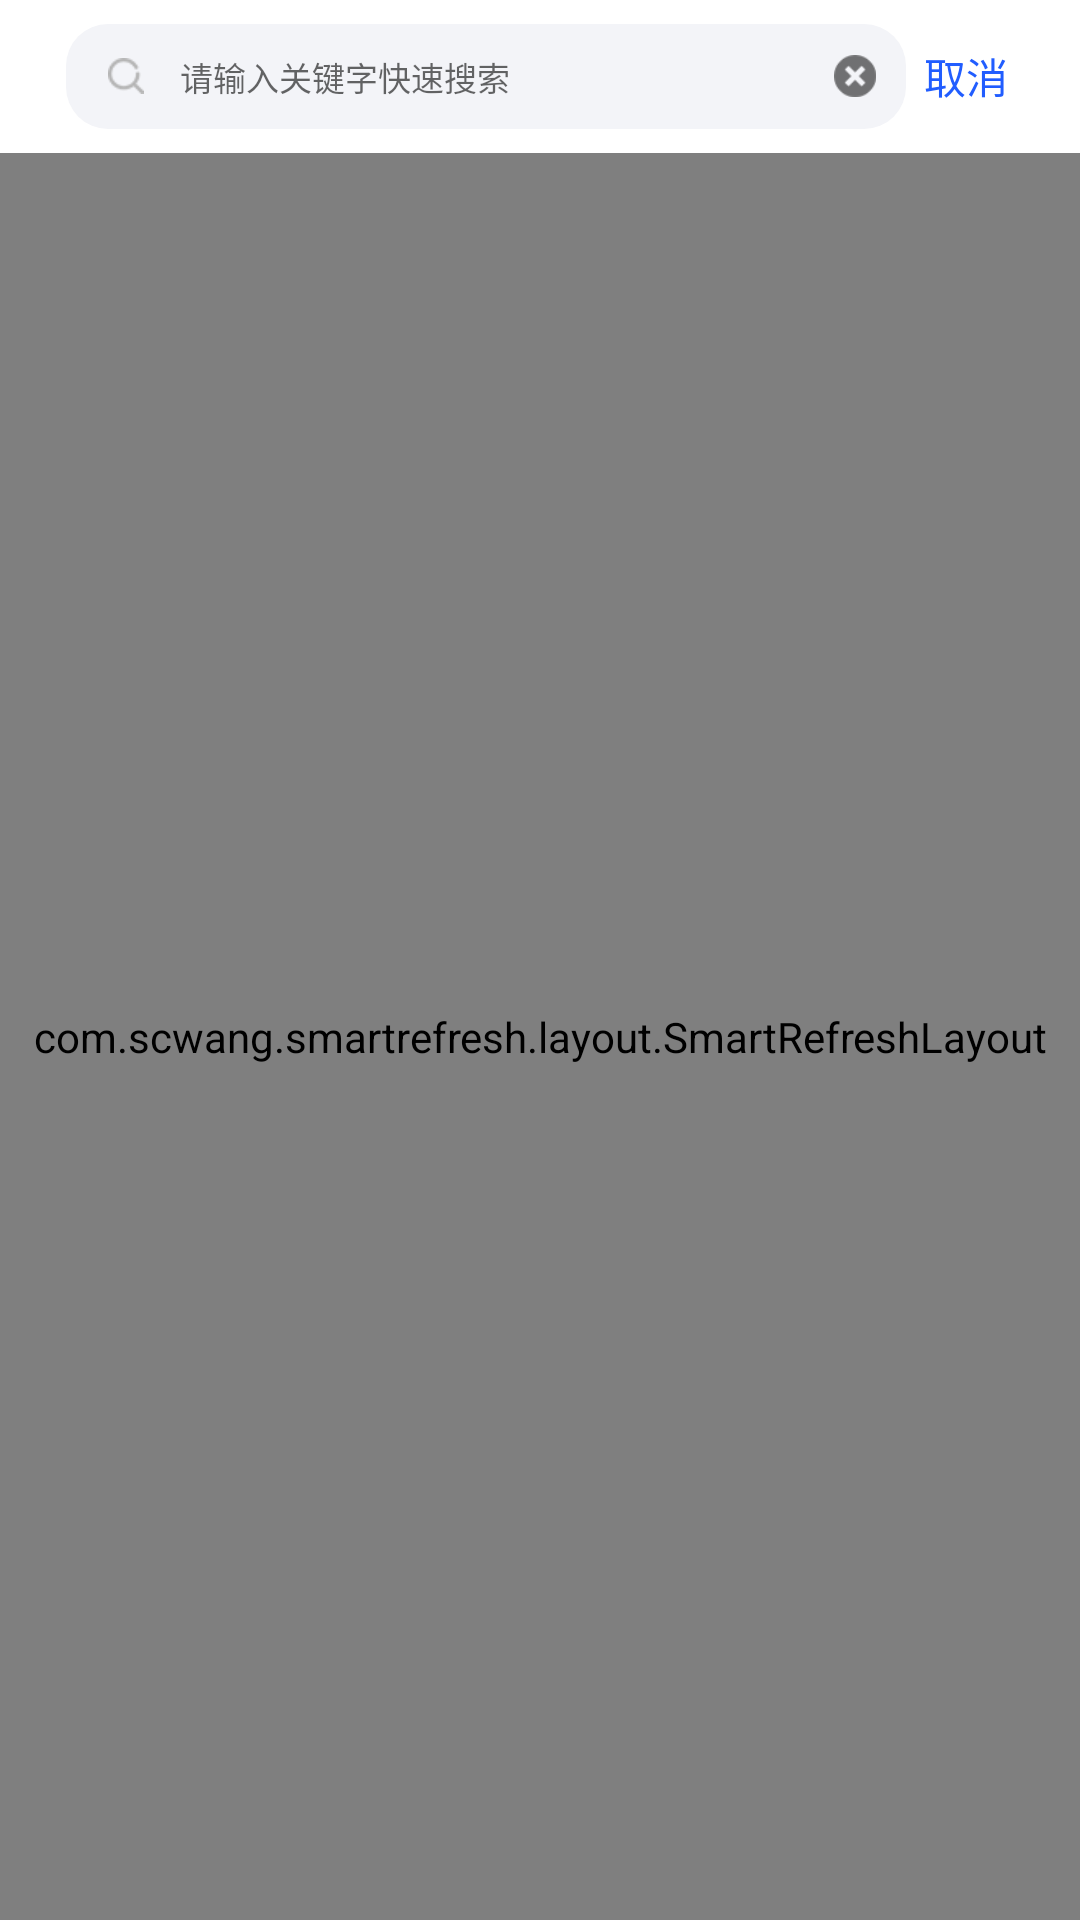

Screen size 1080 x 1920. Icon name, then its box in pixels as (x1, y1, x2, y2):
fangdajing: (108, 58, 144, 94)
release delete but: (834, 55, 876, 97)
